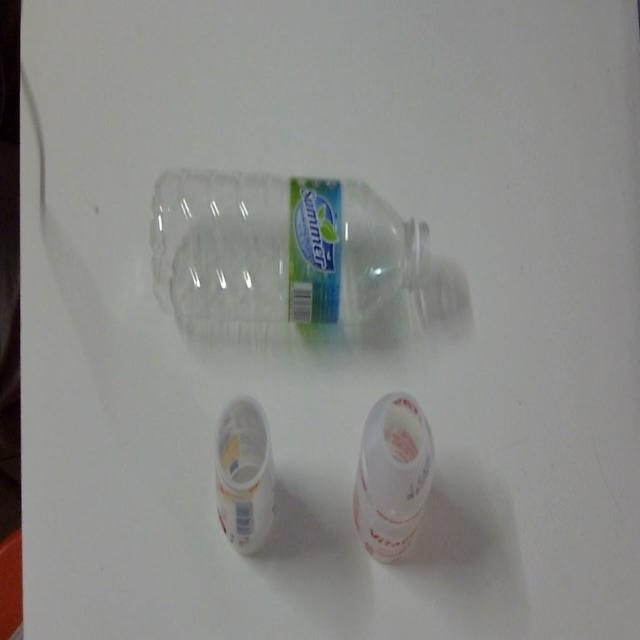plastic_laydown_0rotation: (145, 151, 433, 349)
plastic_standrotation: (348, 384, 436, 576), (207, 384, 283, 556)
